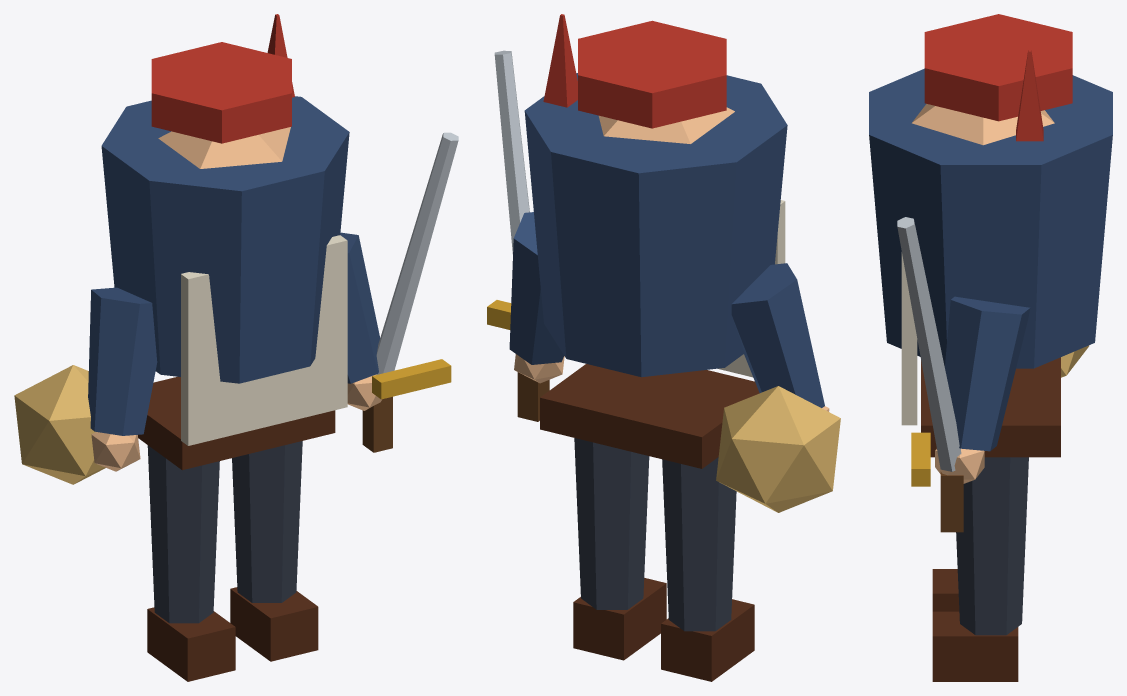
File: npc_sailor.glb
3 views of the same model, side by side, from view 1: azimuth 30°, elevation 25°; view 2: azimuth 150°, elevation 25°; view 3: azimuth 270°, elevation 25° (orthographic). The views are drawn at different scales.
Visible parts, largest first — view 1: npc_sailor_lod0; view 2: npc_sailor_lod0; view 3: npc_sailor_lod0.
Boxes of the visible parts, left/top/right/bottom form: npc_sailor_lod0: left=14, top=14, right=458, bottom=681; npc_sailor_lod0: left=487, top=14, right=840, bottom=681; npc_sailor_lod0: left=869, top=14, right=1112, bottom=681.
Bounding box in the file's own units: 1.19 × 1.8 × 0.6282.
